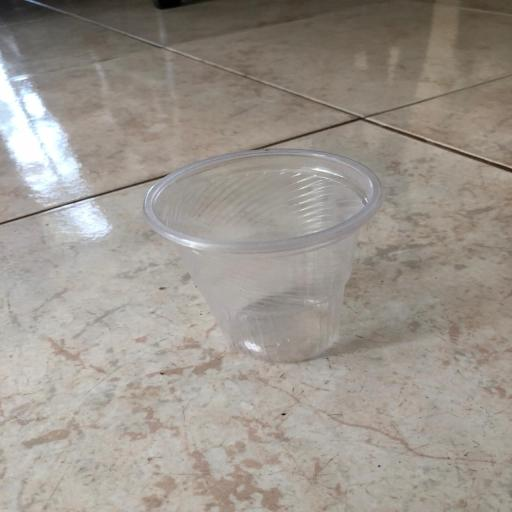waste: (121, 135, 410, 374)
